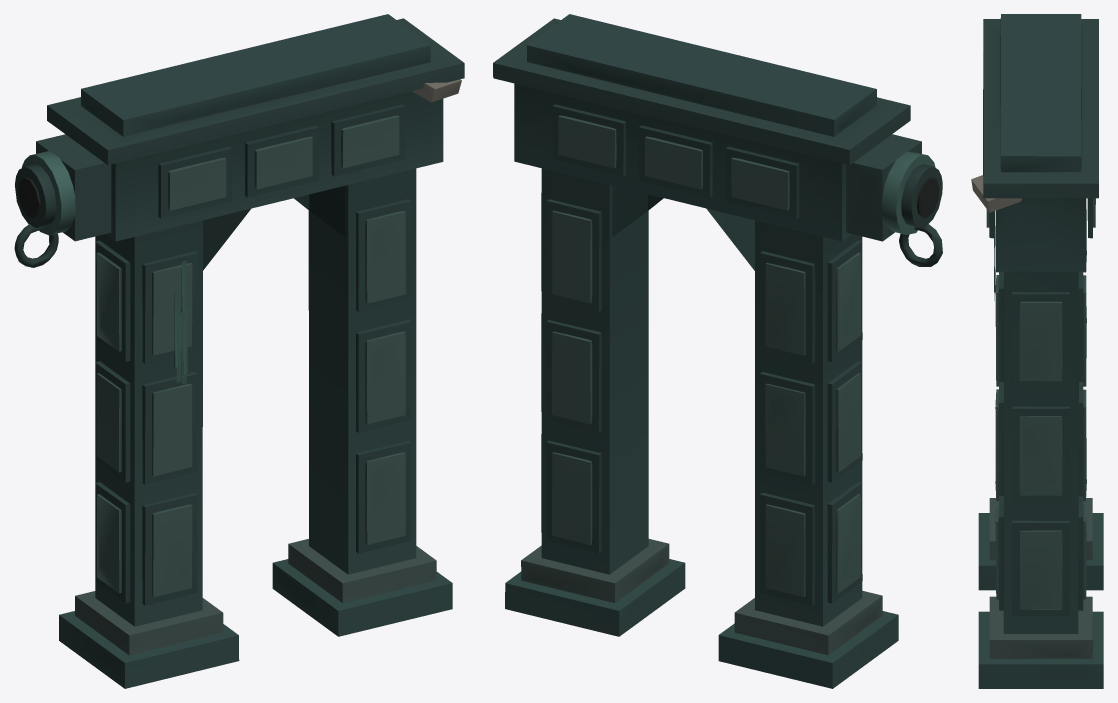
Rendered from intake_gantry_b_lod2.glb.
3 renders of one model, left to right at view 1: azimuth 30°, elevation 25°; view 2: azimuth 150°, elevation 25°; view 3: azimuth 270°, elevation 25°, orthographic. The views are drawn at different scales.
Parts seen in each view (by area): view 1: Surface.001; view 2: Surface.001; view 3: Surface.001.
Part boxes in pixels (left/top/right/bottom): Surface.001: left=14, top=14, right=464, bottom=688; Surface.001: left=493, top=14, right=942, bottom=688; Surface.001: left=971, top=14, right=1103, bottom=688.
Bounding box in the file's own units: 14.53 × 18.5 × 4.2.
